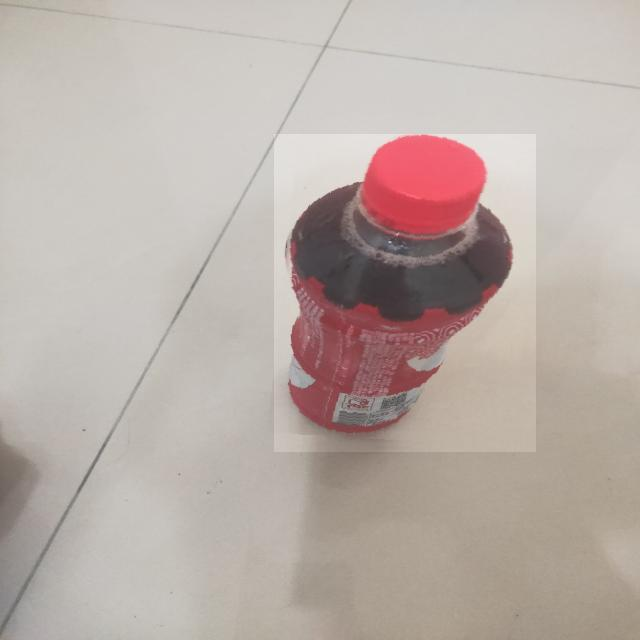ChaLiWong_BlackTea: (274, 134, 536, 452)
